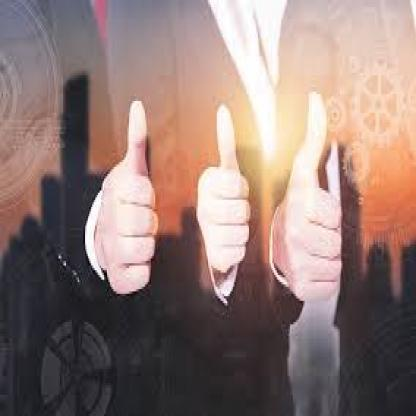thumb_up: (90, 98, 160, 300), (284, 88, 345, 307), (195, 102, 252, 275)
